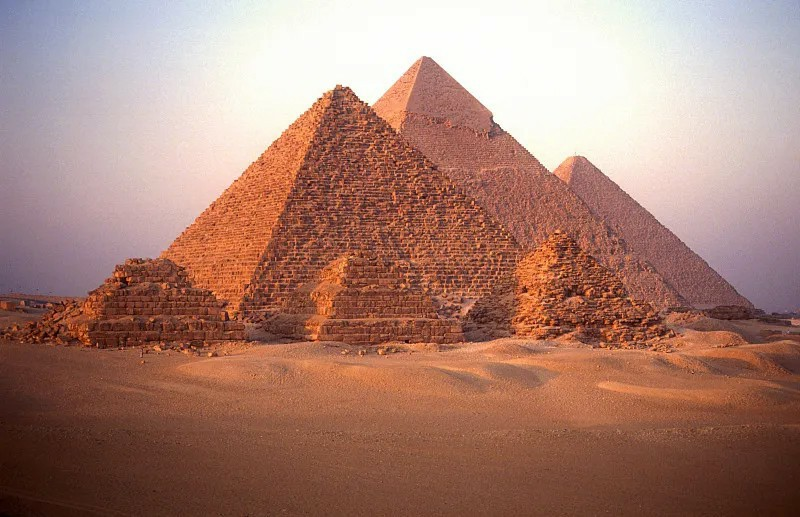Pyramid: (163, 87, 526, 330), (372, 56, 700, 313), (554, 156, 753, 309), (472, 231, 674, 338), (267, 251, 464, 342), (50, 258, 249, 346)
